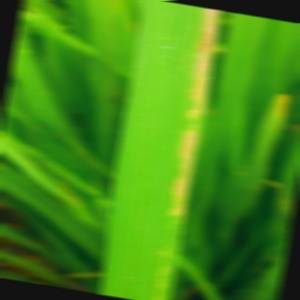Leaf_Blast: (115, 2, 196, 300)
